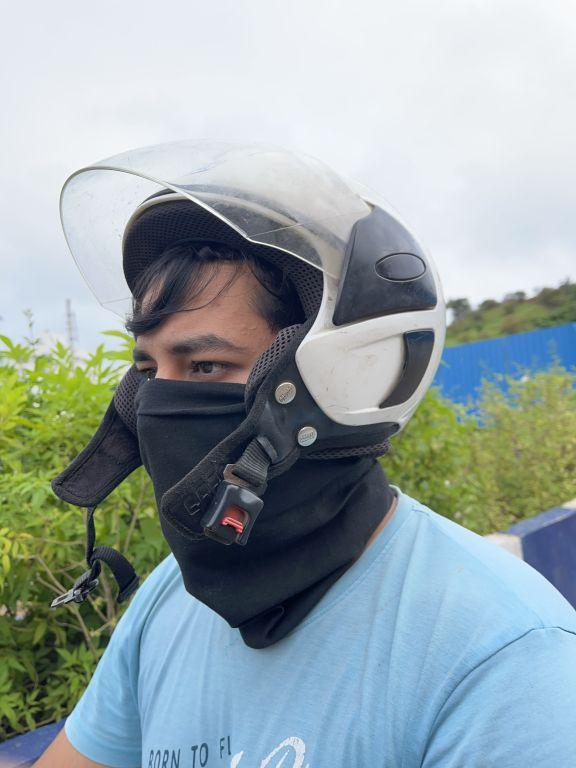helmet: (34, 102, 452, 547)
